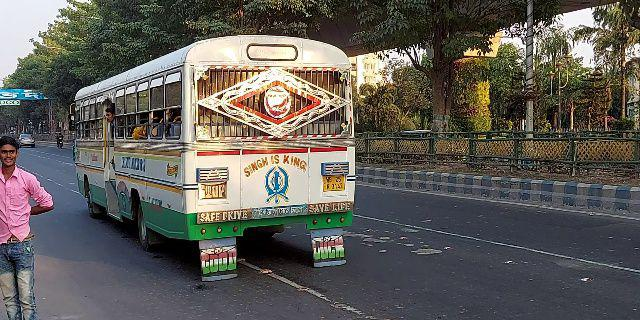Bus: (70, 29, 360, 286)
